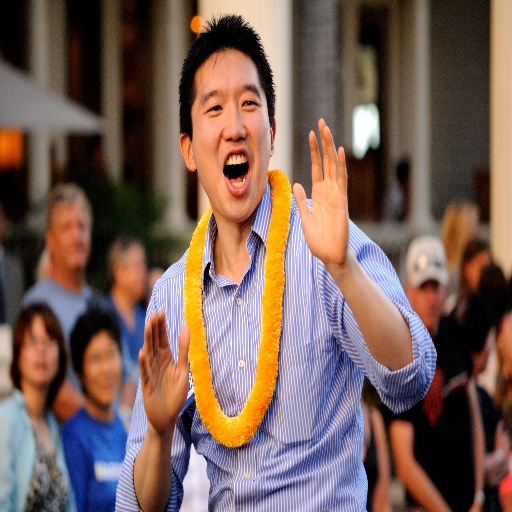hand: (299, 126, 362, 270), (137, 309, 190, 433), (495, 419, 511, 461), (370, 481, 390, 511)
